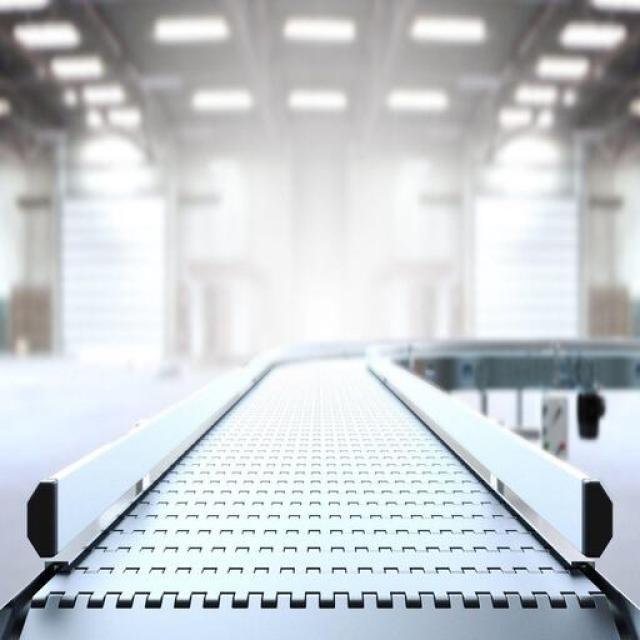conveyor: (21, 356, 622, 640)
